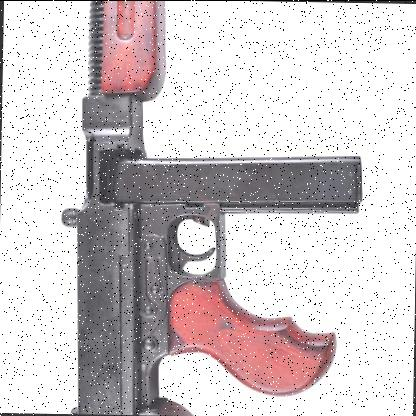rifle: (45, 1, 368, 402)
